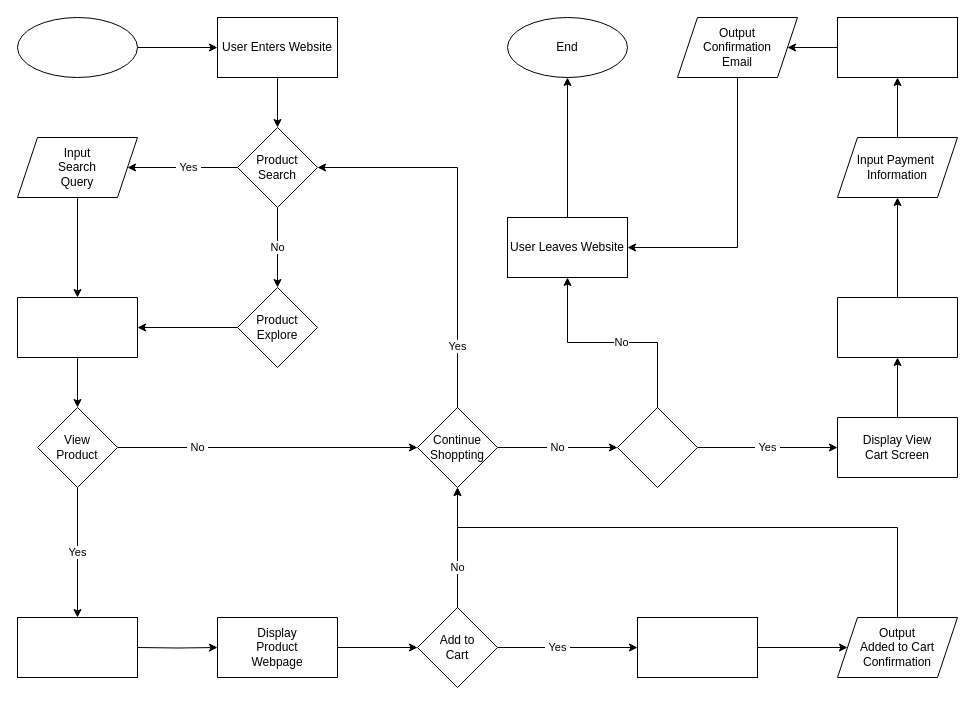
The diagram is 975 pixels wide and 705 high, and some of its shapes have lost their labels. Here are the shapes that lost their labels. From the top down, the centre of each, then its label:
At (77,47): "Start".
At (897,47): "Display Order Confirmation Screen".
At (77,327): "Display Product Feed".
At (897,327): "Display View Payment Screen".
At (657,447): "Checkout".
At (77,647): "Load Product Webpage".
At (697,647): "Add Product to Cart".
